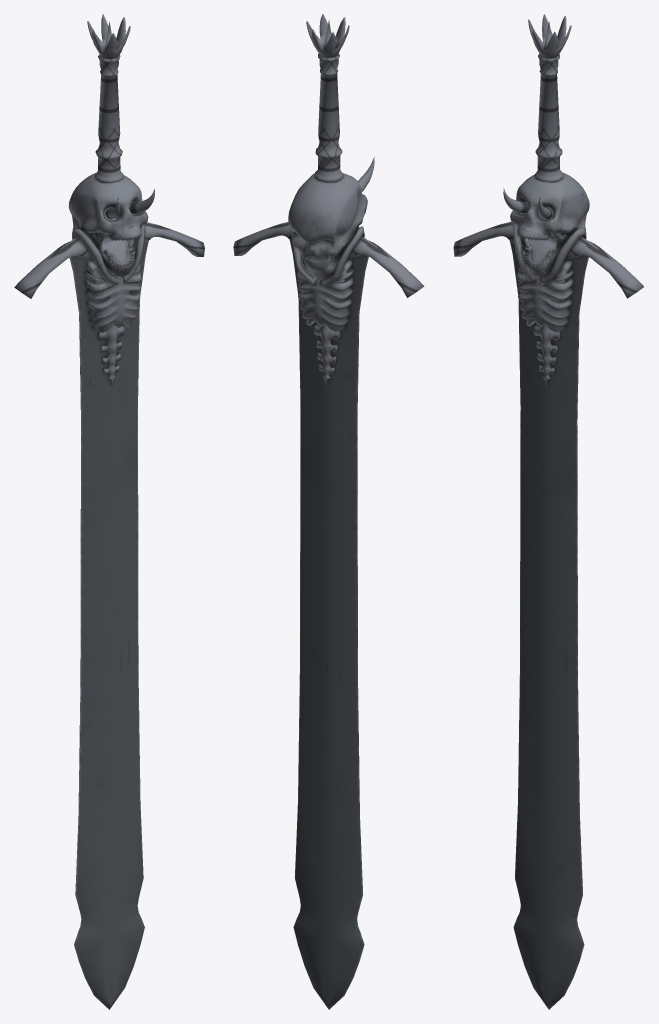
The model's file is rebellion.glb.
The picture shows the model from 3 angles, left to right: view 1: azimuth 30°, elevation 25°; view 2: azimuth 150°, elevation 25°; view 3: azimuth 330°, elevation 25°; orthographic projection.
Parts seen in each view (by area): view 1: rebellion_blade, rebellion_skull, rebellion_ribs, rebellion_grip, rebellion_guard, rebellion_pommel; view 2: rebellion_blade, rebellion_skull, rebellion_ribs, rebellion_grip, rebellion_guard, rebellion_pommel; view 3: rebellion_blade, rebellion_skull, rebellion_ribs, rebellion_grip, rebellion_guard, rebellion_pommel.
Part boxes in pixels (<box>): rebellion_blade: <box>69,238,148,1009</box>; rebellion_skull: <box>68,173,154,276</box>; rebellion_ribs: <box>72,224,145,386</box>; rebellion_grip: <box>94,54,123,182</box>; rebellion_guard: <box>14,222,204,298</box>; rebellion_pommel: <box>87,14,130,58</box>; rebellion_blade: <box>289,240,368,1009</box>; rebellion_skull: <box>288,157,374,278</box>; rebellion_ribs: <box>291,226,364,385</box>; rebellion_grip: <box>314,53,343,182</box>; rebellion_guard: <box>233,222,424,297</box>; rebellion_pommel: <box>306,14,349,57</box>; rebellion_blade: <box>509,238,588,1009</box>; rebellion_skull: <box>503,172,589,275</box>; rebellion_ribs: <box>513,223,586,386</box>; rebellion_grip: <box>534,53,563,182</box>; rebellion_guard: <box>453,221,643,298</box>; rebellion_pommel: <box>528,14,571,58</box>.
Size of the model in its own units: 0.3481 by 1.75 by 0.1584.
Materials: 2 (2 with a texture image).
